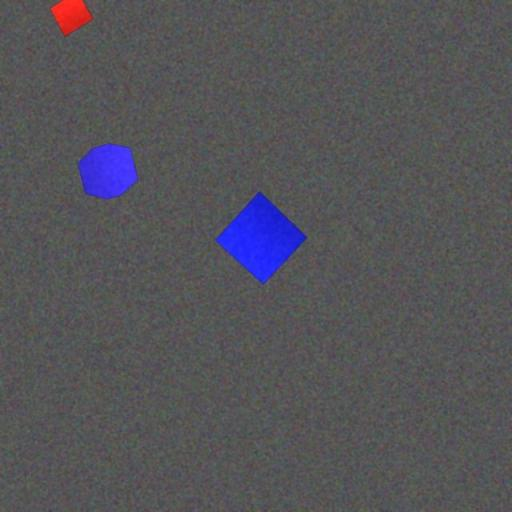BLUE_SQUARE: (214, 190, 308, 286)
RED_SQUARE: (50, 0, 94, 38)
